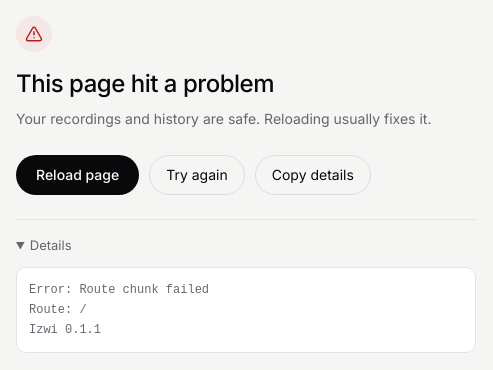
Test: RouteErrorBoundary › copies the error details for a bug report
What coordinates should you click on to do the following:
click the button "Copy details"
I would click on:
 (313, 175)
Its box is [255,155,371,195].
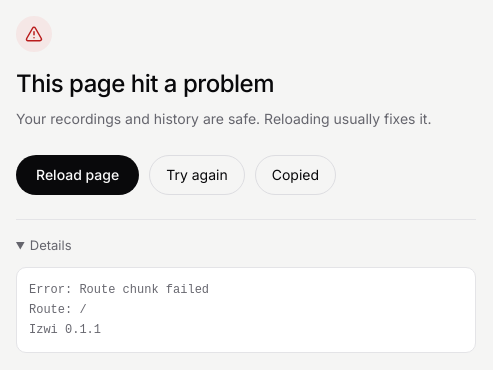
expect the button "Copied" is shown: met, box [255,155,336,195]
